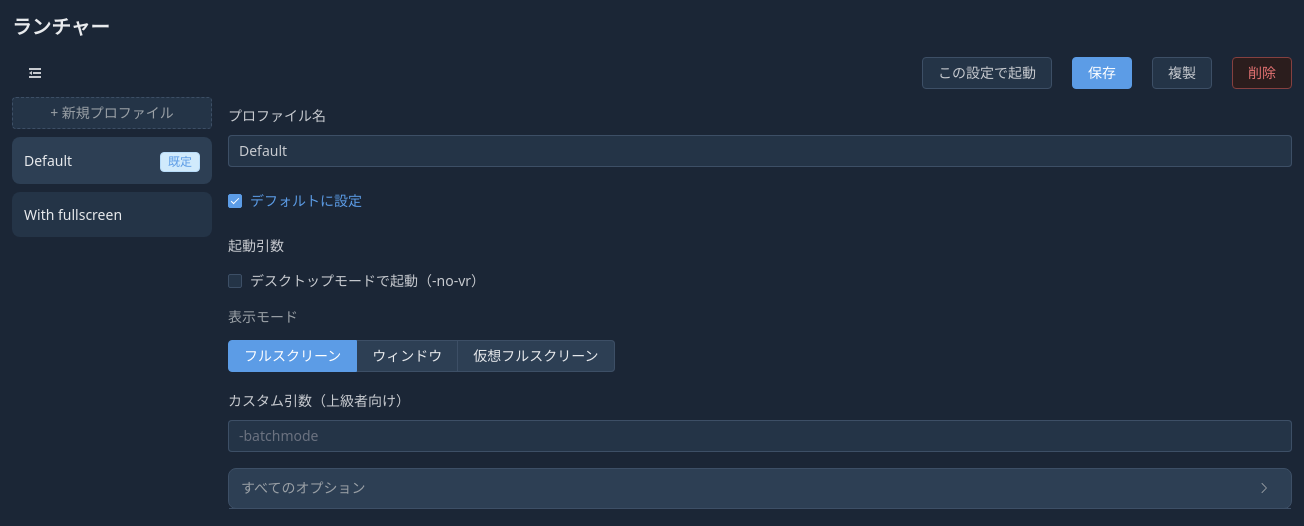
Test: LauncherView › addNew saves immediately and shows labeled delete and duplicate
The width and height of the screenshot is (1304, 526).
Click the button with class "btn-add".
click(112, 113)  # box x1=12 y1=97 x2=212 y2=129
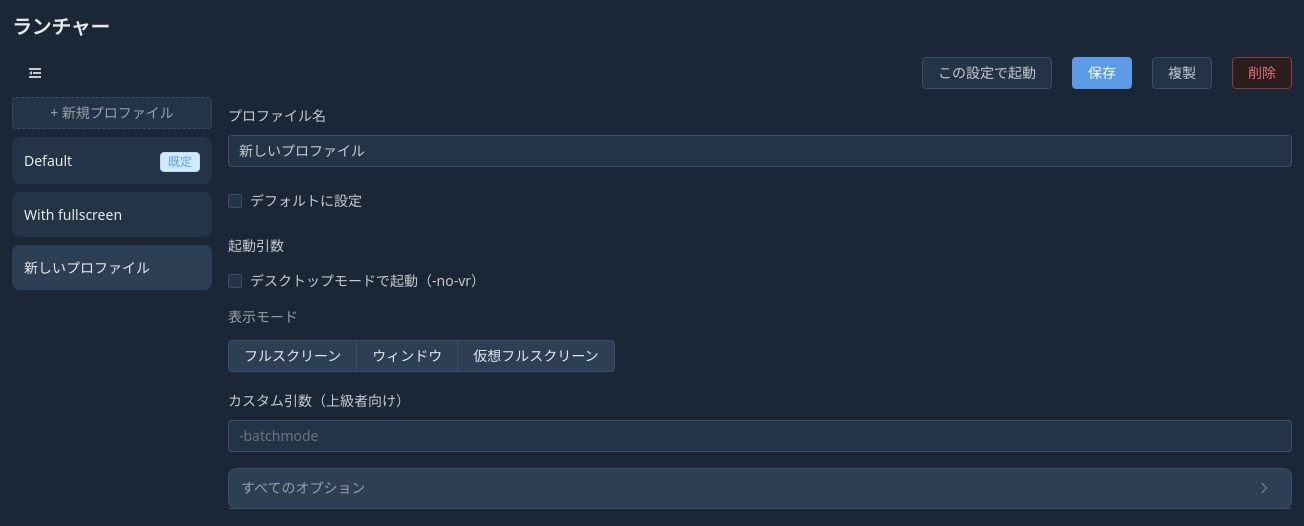
expect the button with test id "duplicate-profile-btn" is shown: met, box x1=1152 y1=57 x2=1212 y2=89
expect the field labelled "プロファイル名" holds "新しいプロファイル": met, box x1=239 y1=136 x2=1281 y2=166
